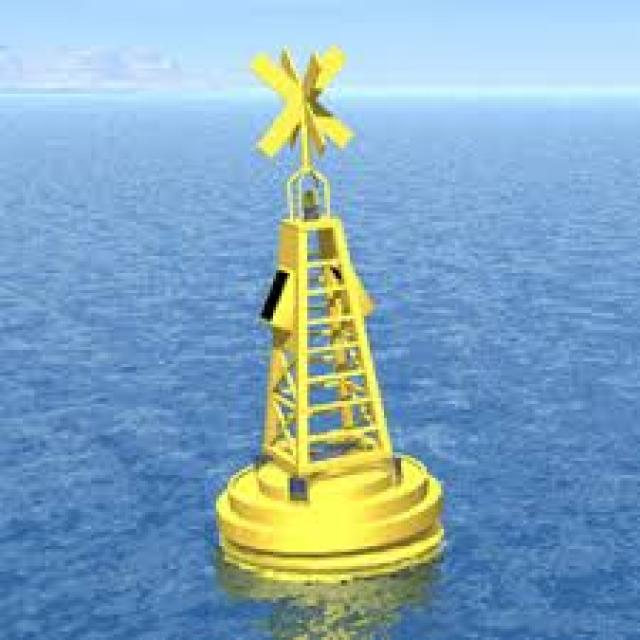marque: (198, 28, 463, 608)
